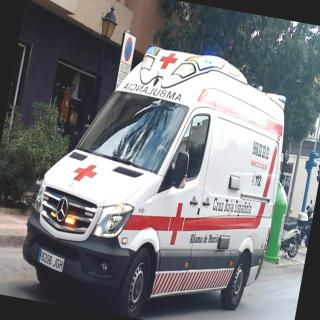Ambulance: (12, 10, 304, 320)
